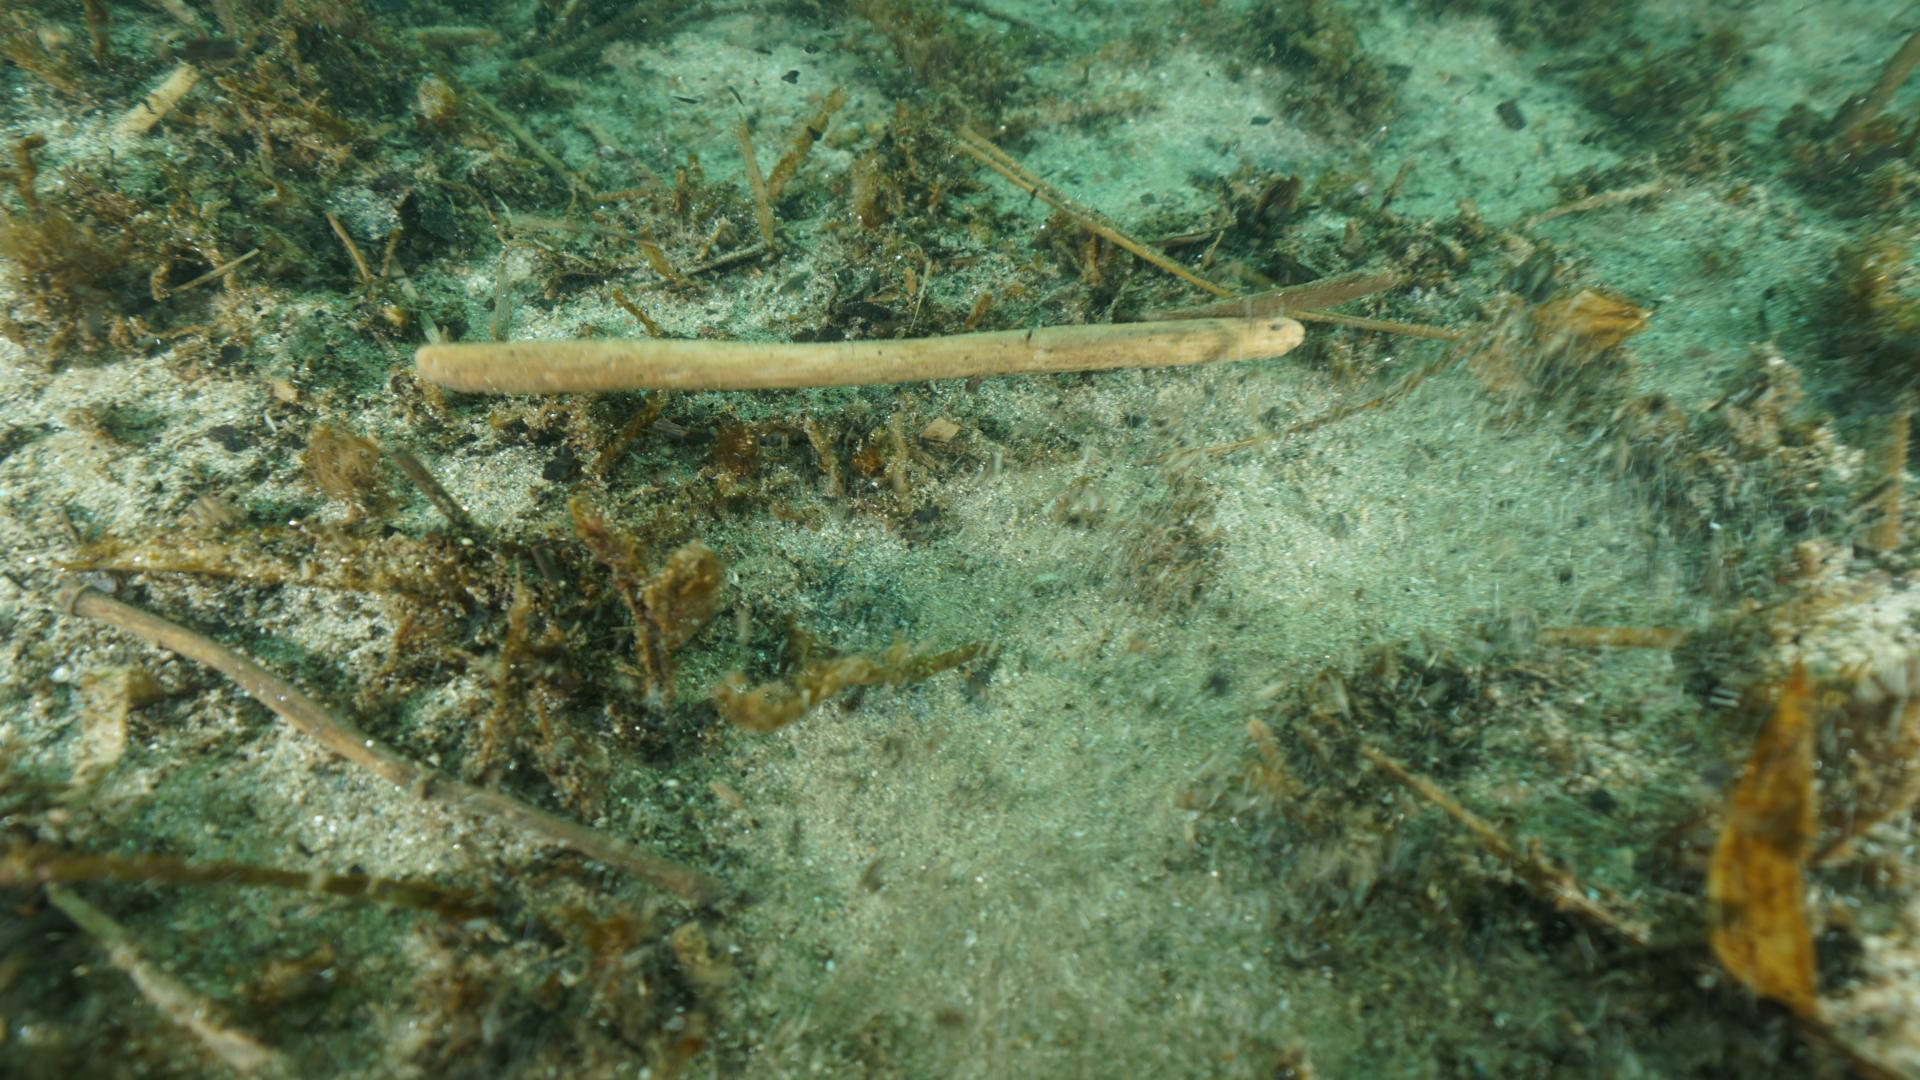wood: (410, 315, 1307, 393)
